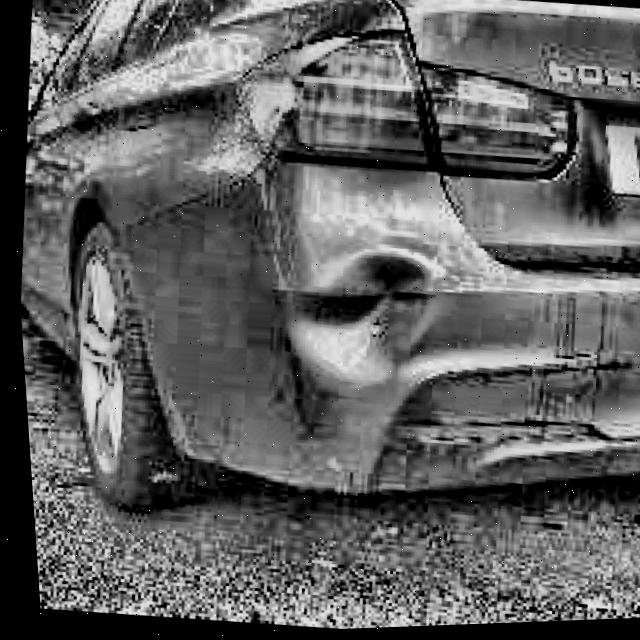bumper_dent: (275, 244, 445, 391)
